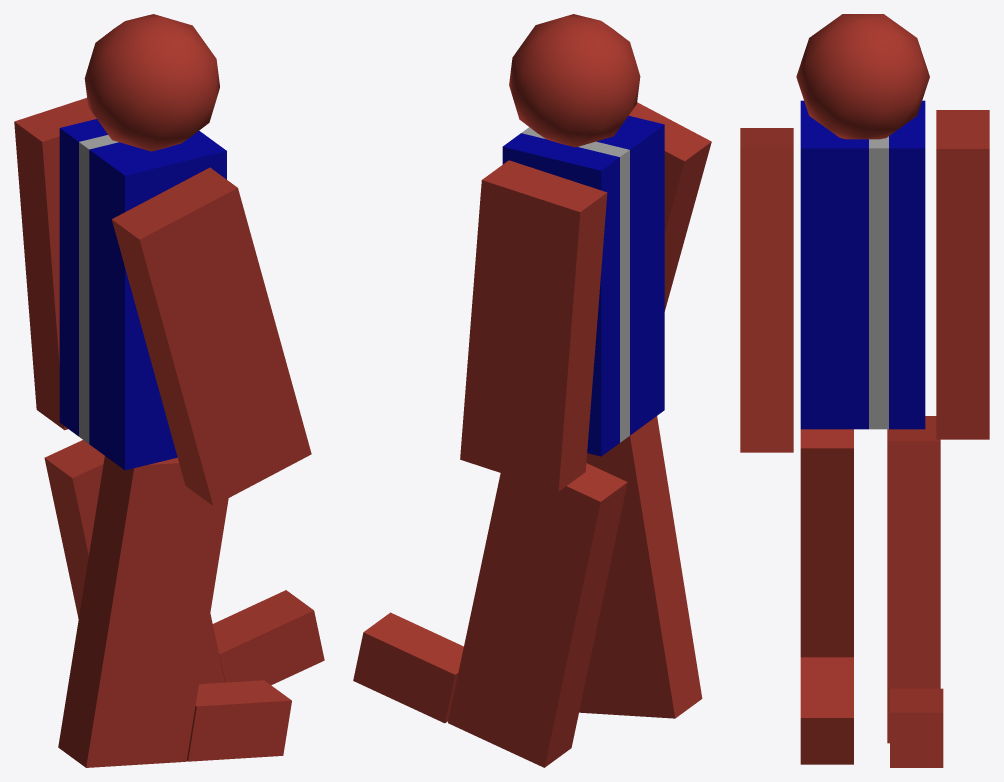
Rendered from player_000046.obj.
3 views of the same model, side by side, from view 1: azimuth 30°, elevation 25°; view 2: azimuth 150°, elevation 25°; view 3: azimuth 270°, elevation 25° (orthographic). The views are drawn at different scales.
Parts seen in each view (by area): view 1: Cube.005, Cube.001, Cube, Icosphere, Cube.006, Cube.004, Cube.003, Cube.002; view 2: Cube.006, Cube.002, Cube, Cube.001, Icosphere, Cube.004, Cube.005; view 3: Cube, Cube.006, Cube.005, Cube.002, Icosphere, Cube.001, Cube.003, Cube.004.
Boxes of the visible parts, x1,y1,x2,y2 form: Cube.005: (112, 167, 311, 505); Cube.001: (58, 456, 228, 767); Cube: (59, 119, 226, 470); Icosphere: (84, 14, 219, 151); Cube.006: (14, 98, 96, 430); Cube.004: (212, 590, 324, 685); Cube.003: (186, 680, 291, 761); Cube.002: (44, 440, 224, 684); Cube.006: (460, 160, 607, 491); Cube.002: (448, 463, 627, 767); Cube: (502, 116, 664, 456); Cube.001: (579, 416, 702, 718); Icosphere: (509, 14, 640, 147); Cube.004: (353, 612, 463, 723); Cube.005: (629, 102, 711, 311); Cube: (800, 100, 925, 429); Cube.006: (936, 110, 989, 439); Cube.005: (740, 128, 793, 452); Cube.002: (887, 416, 940, 743); Icosphere: (796, 14, 929, 139); Cube.001: (800, 429, 853, 657); Cube.003: (800, 657, 853, 764); Cube.004: (890, 688, 943, 767).
Size of the model in its own units: 1.15 by 2.85 by 0.9137.
